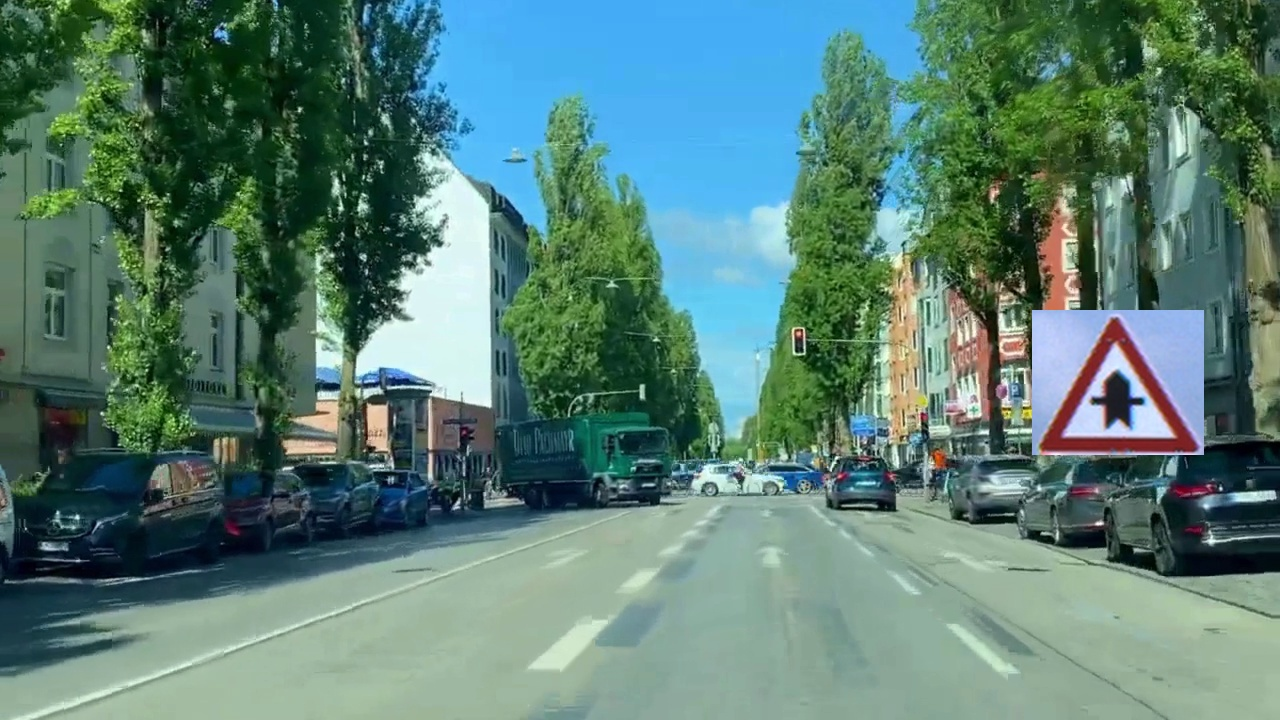Right-of-way: (1032, 310, 1204, 455)
